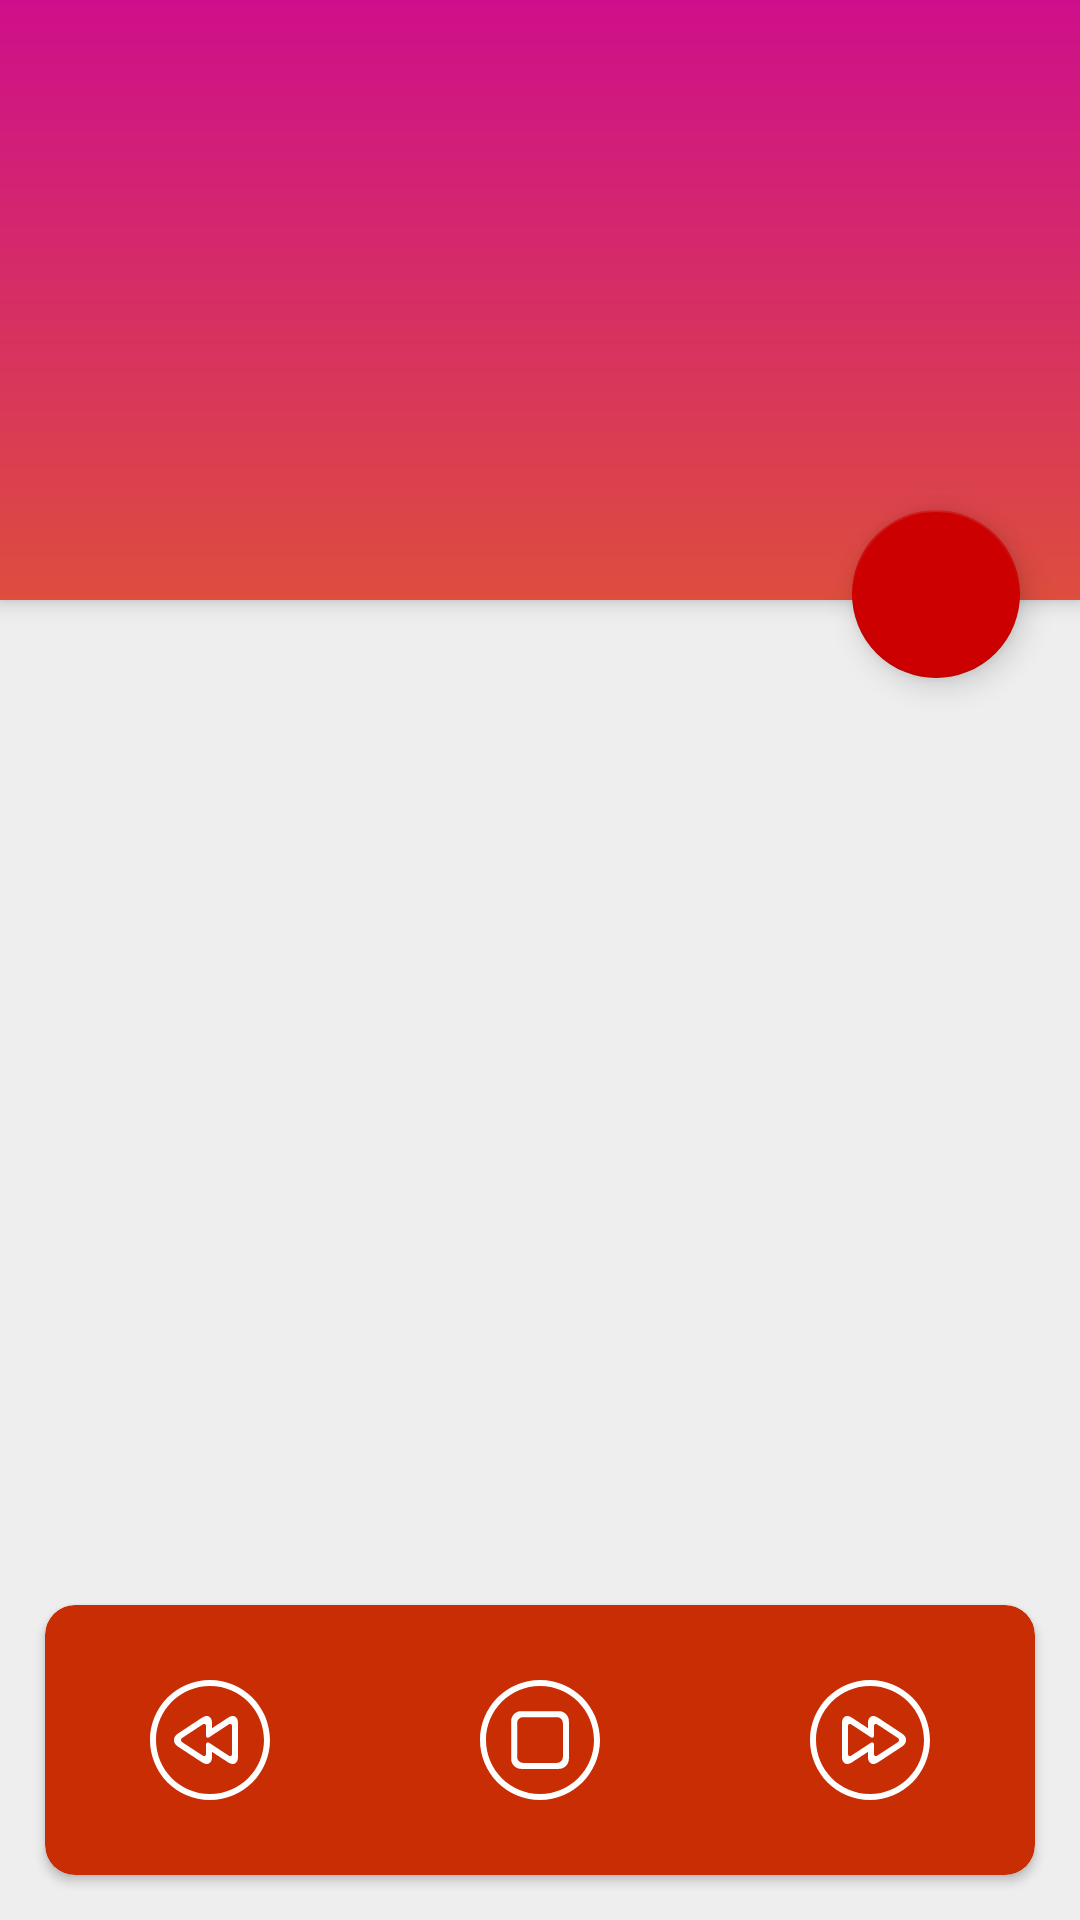

Where icons sit on this 1080x1920 app screen, as (x1, y1, x2, y2):
fast forward: (810, 1680, 930, 1800)
fast rewind: (150, 1680, 270, 1800)
stop: (480, 1680, 600, 1800)
